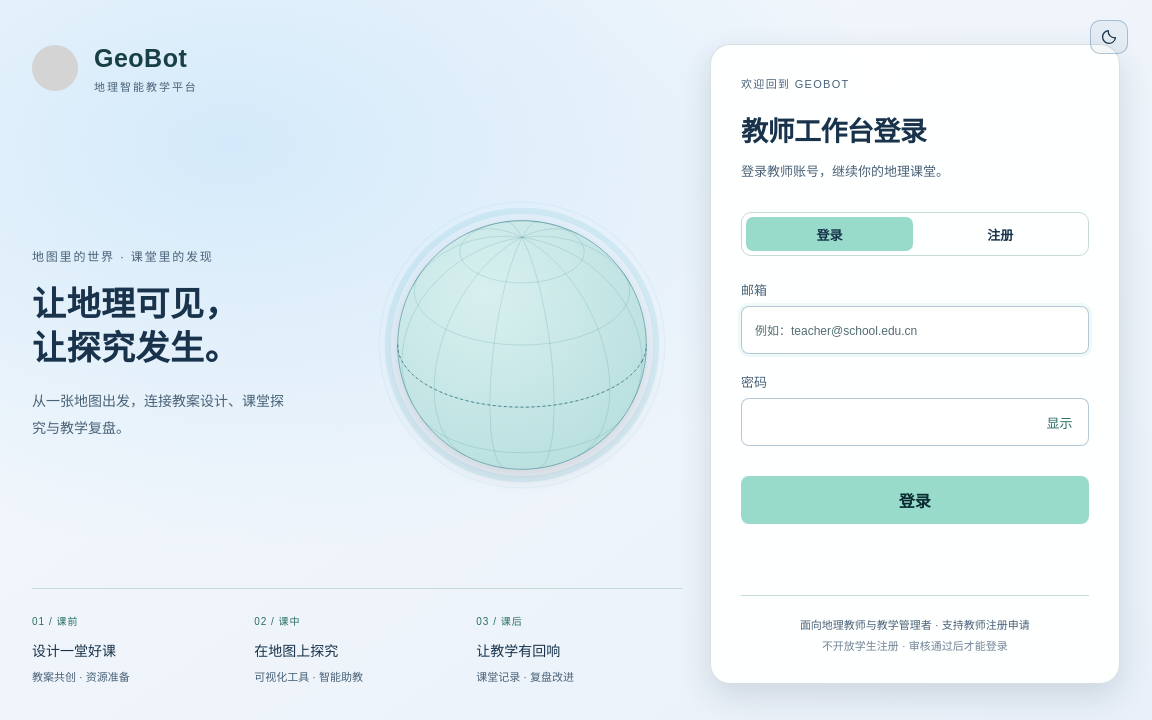
it: AuthGate registration › validates password confirmation and strength before submitting
The width and height of the screenshot is (1152, 720).
expect the heading "教师工作台登录" is shown: met, box [742,117,927,147]
Click the button "注册". click: (1001, 234)
box: [917,217,1084,251]
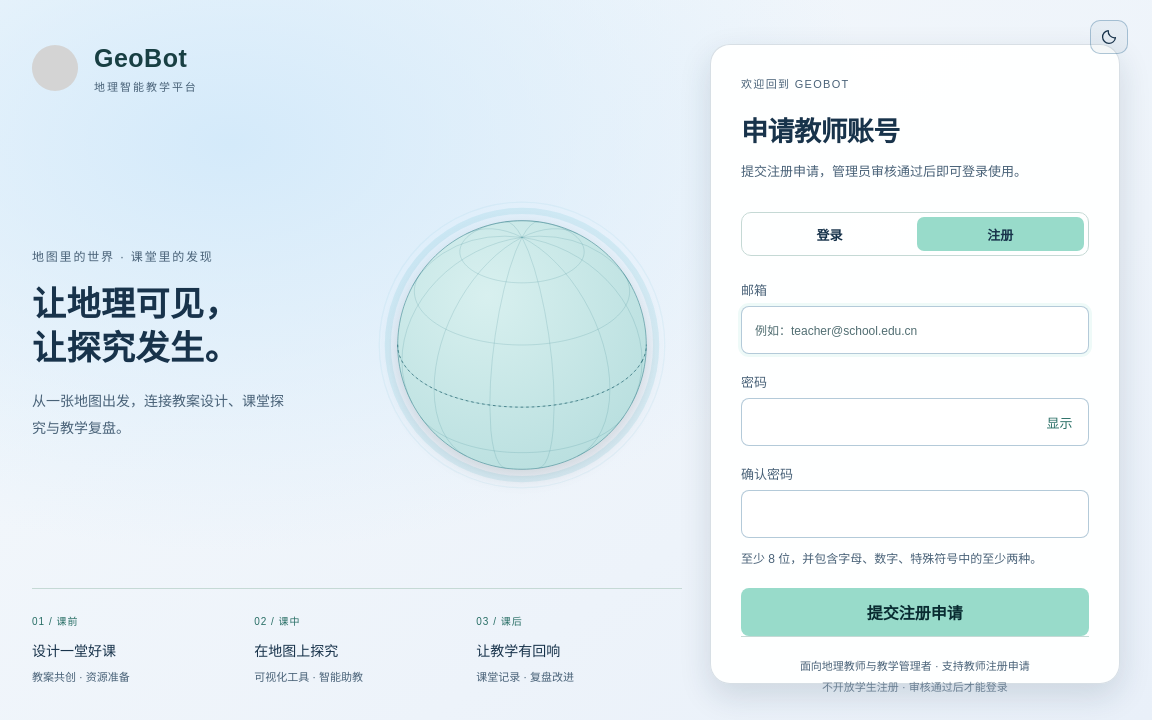
Type "new@school.edu.cn" into the field labelled "邮箱". click: (915, 330)
box: [742,306,1089,354]
Type "abcdefgh" into the password field labelled "密码 显示". click: (915, 422)
box: [742,398,1089,446]
Type "abcdefgh" into the password field labelled "确认密码". click: (915, 514)
box: [742,490,1089,538]
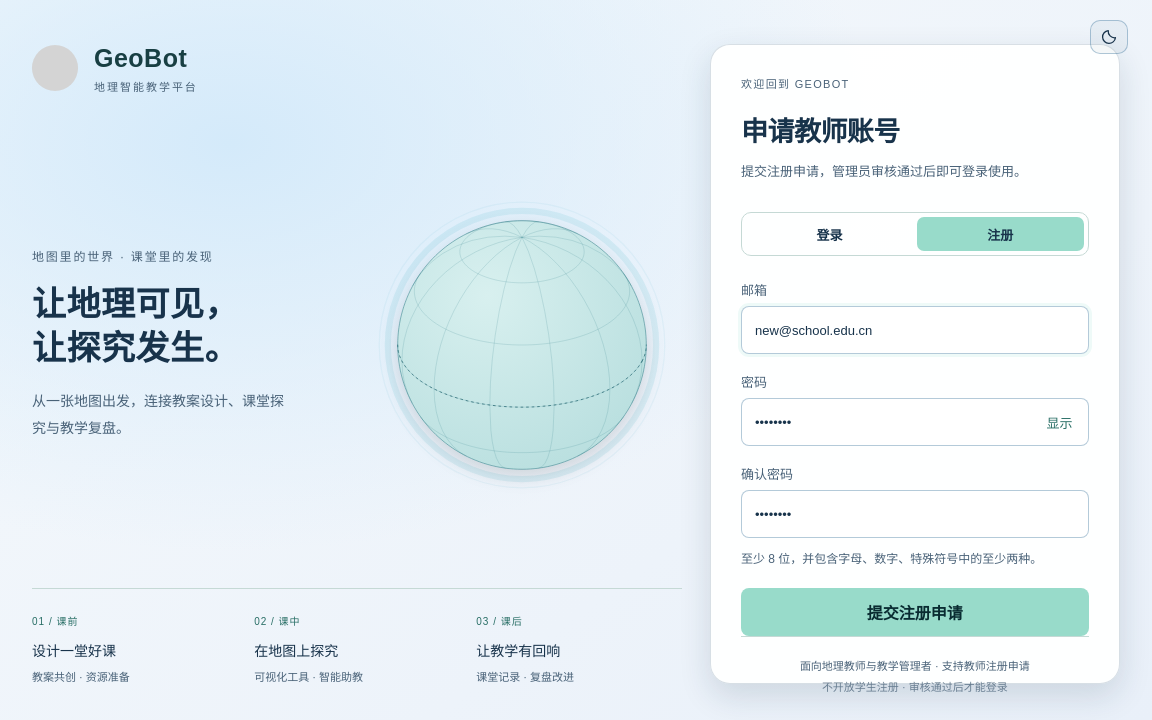
Click the button "提交注册申请". click: (915, 612)
box: [742,588,1089,636]
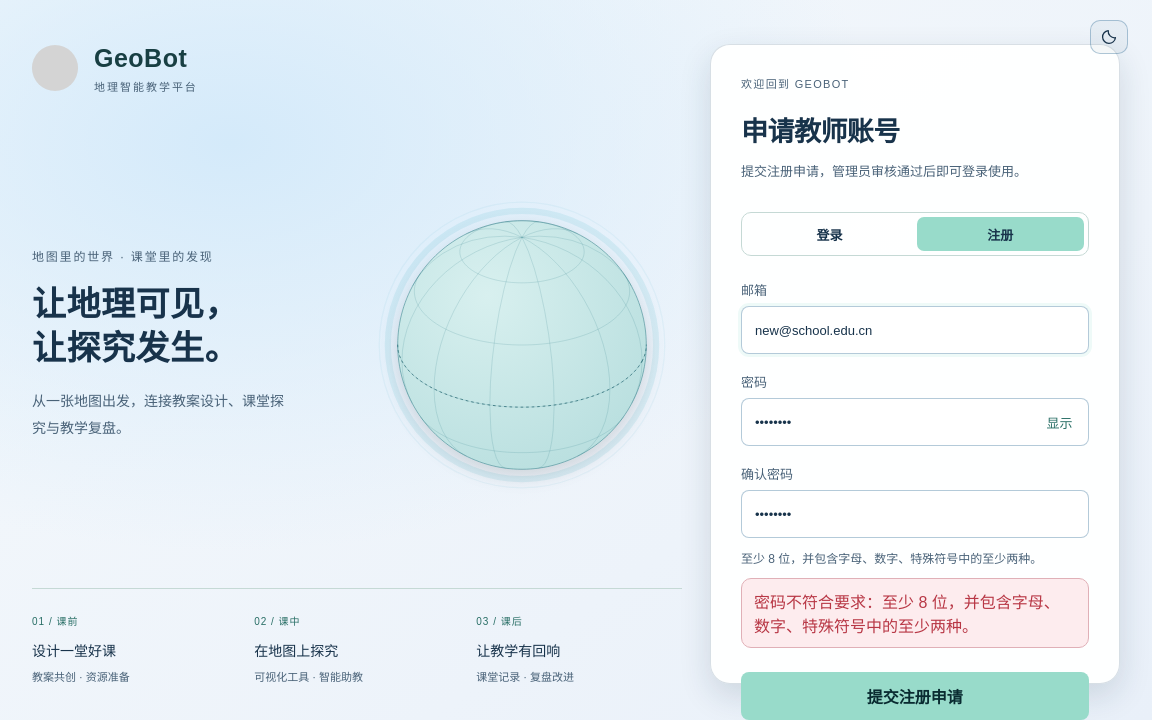
expect the message shows "密码不符合要求": met, box [754,594,1060,635]
Type "Strong-Teacher-2026!" into the password field labelled "密码 显示". click: (915, 422)
box: [742,398,1089,446]
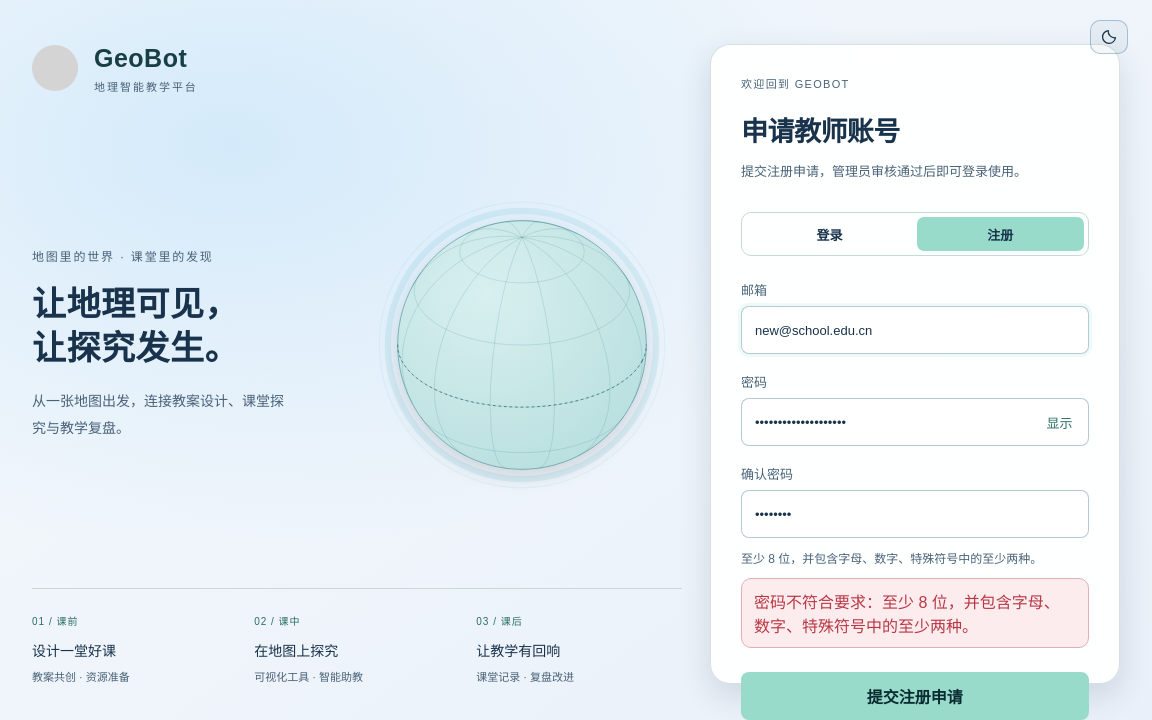
Type "different-value" into the password field labelled "确认密码". click: (915, 514)
box: [742,490,1089,538]
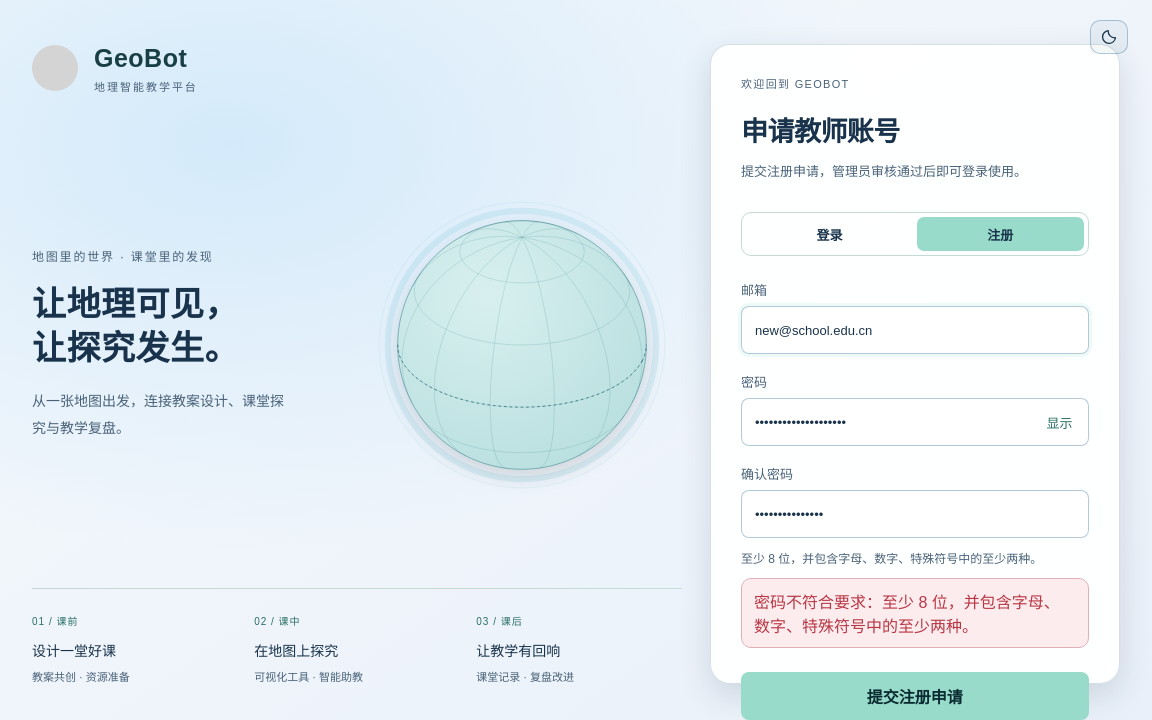
Click the button "提交注册申请". click: (915, 696)
box: [742,672,1089,719]
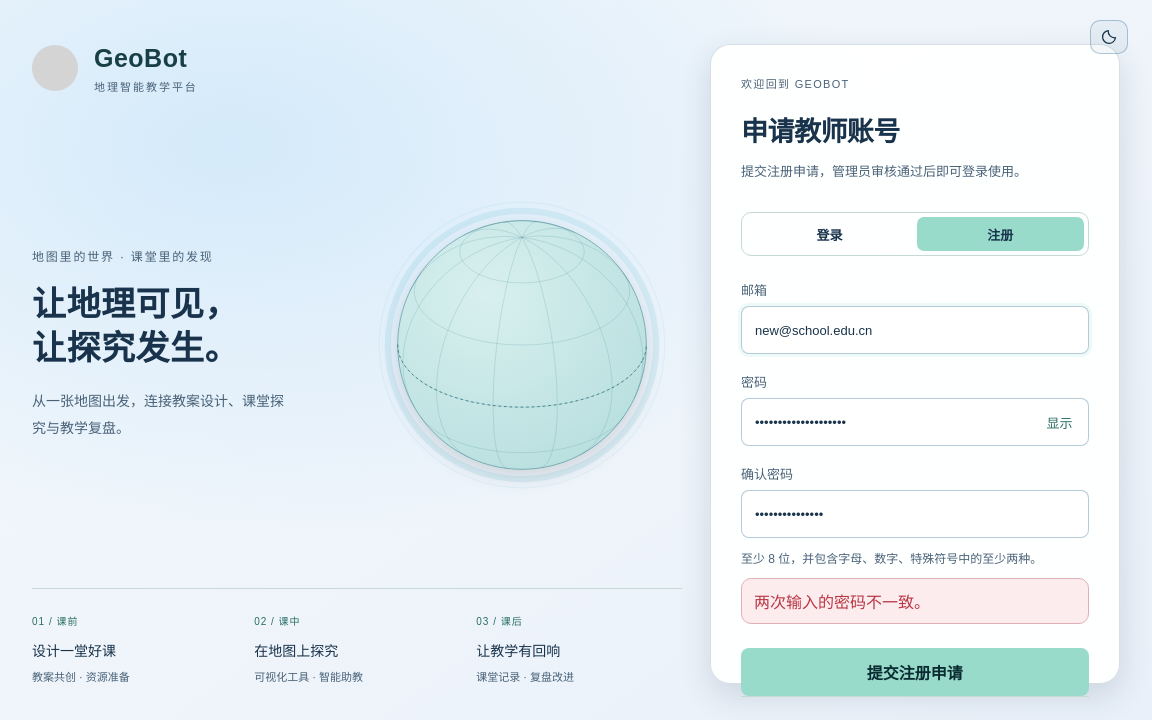
expect the message shows "两次输入的密码不一致": met, box [754,594,930,611]
